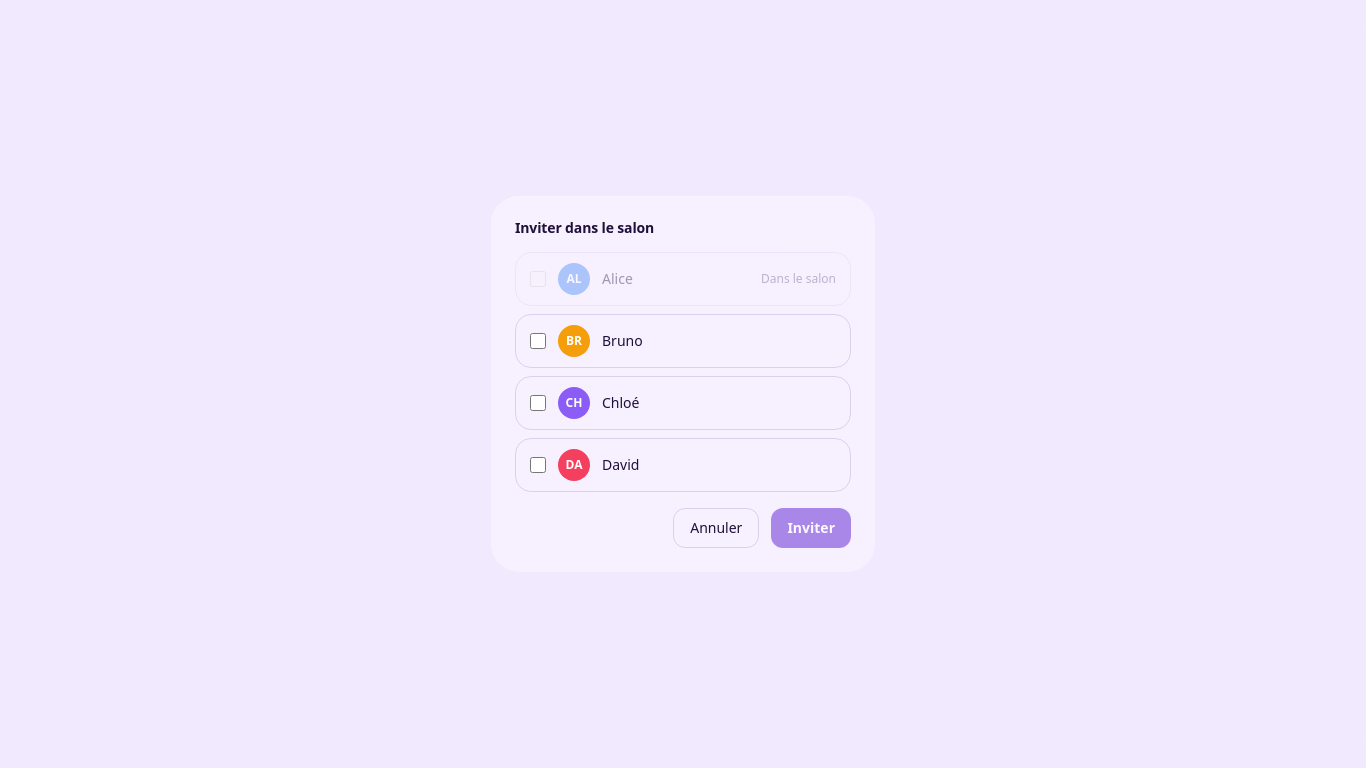
it: InviteToRoomDialog — inviter après coup › « Inviter » est désactivé sans sélection ; l’envoi transmet les amis choisis, puis ferme avec un toast
The image size is (1366, 768).
Expected: the button "Inviter" is disabled, [771, 508, 851, 548]
Click the checkbox labelled "CH Chloé": (538, 403) [530, 395, 546, 411]
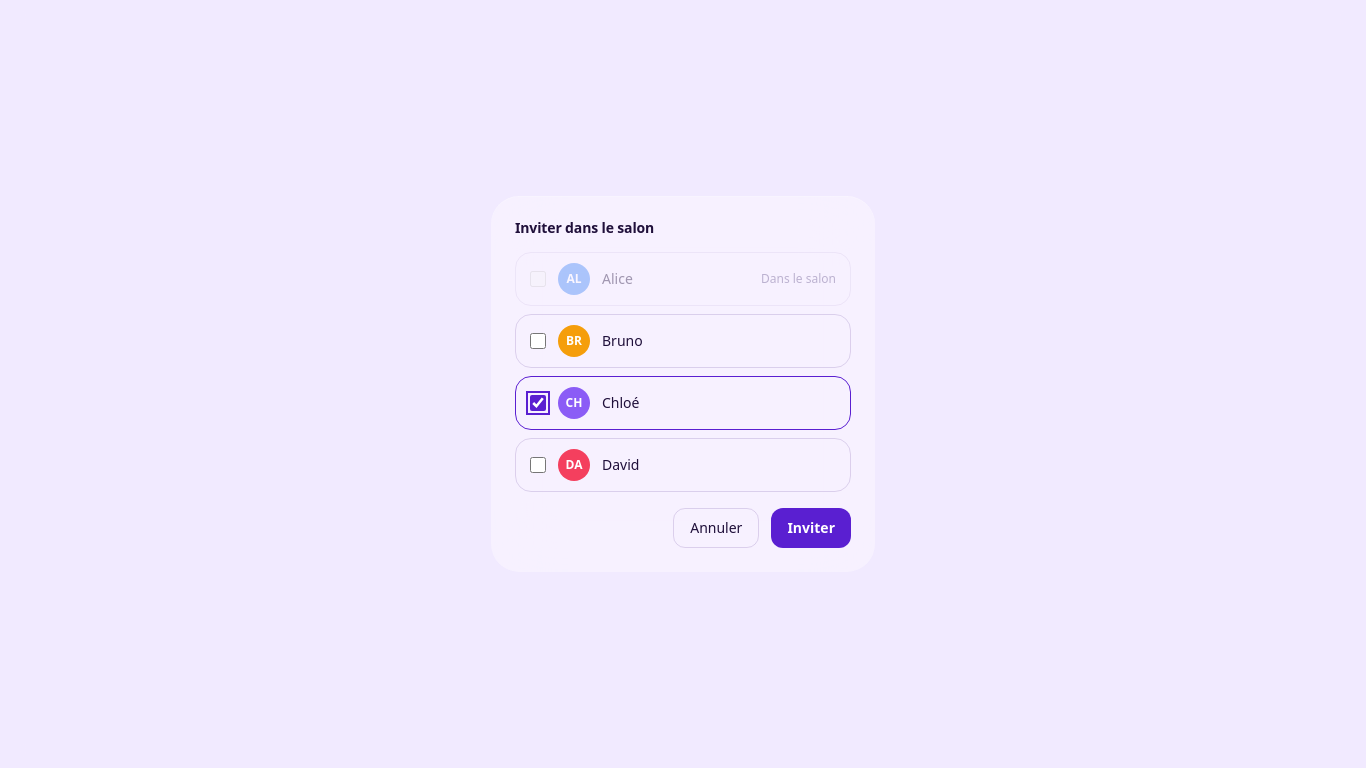
Click the checkbox labelled "DA David": (538, 465) [530, 457, 546, 473]
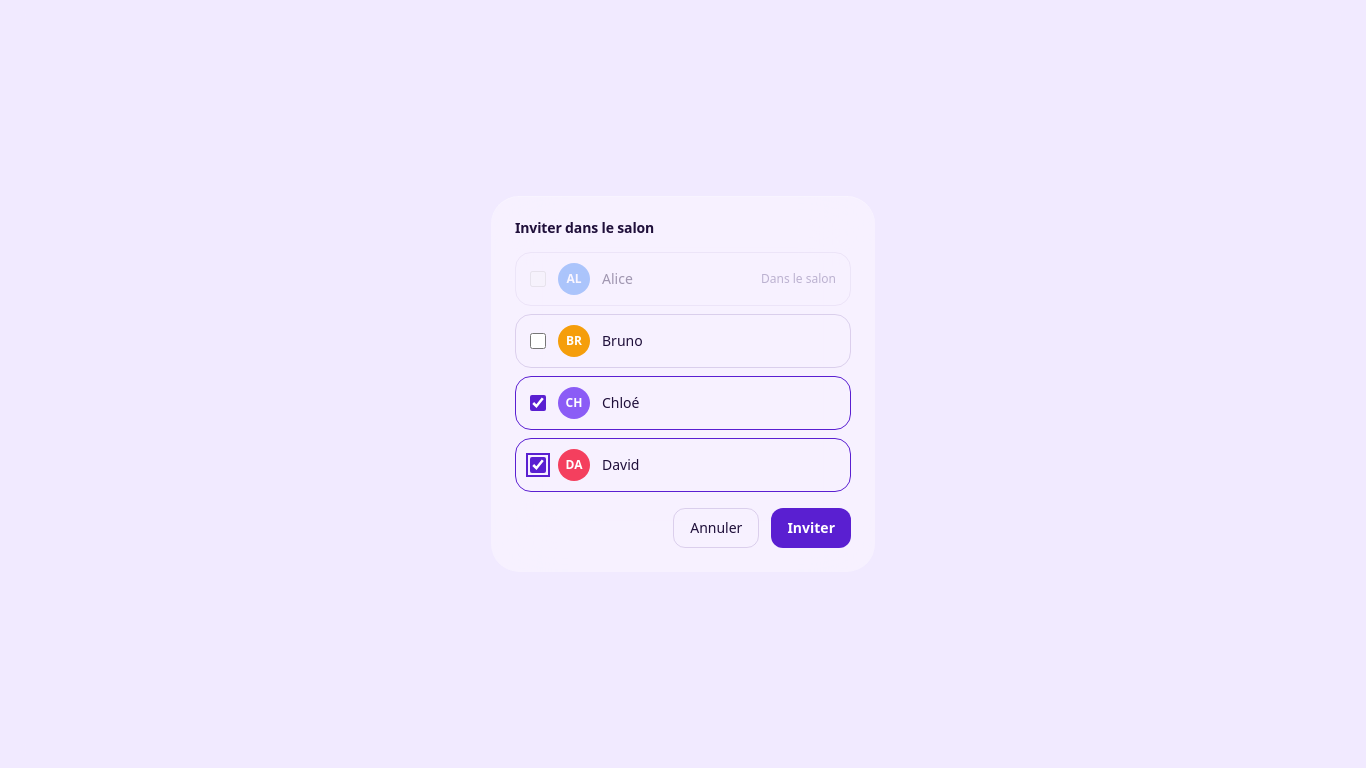
Click the button "Inviter": (811, 528) [771, 508, 851, 548]
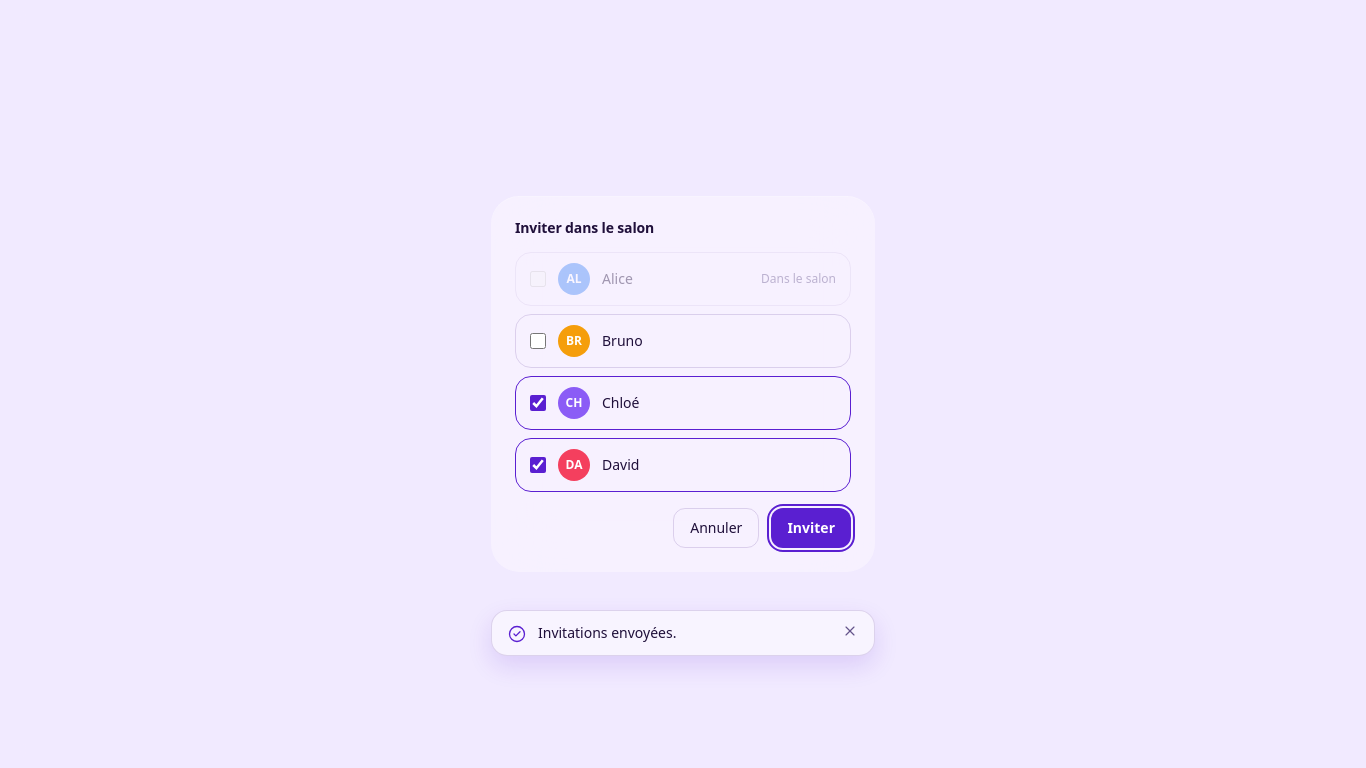
Expected: the text "Invitations envoyées." is shown, [538, 623, 676, 642]
